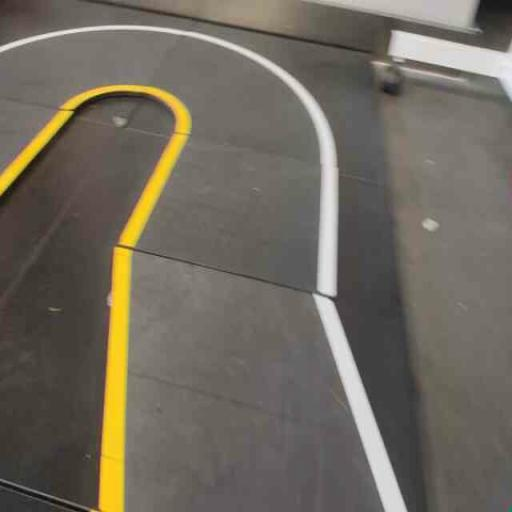crossleft: (93, 243, 419, 511)
